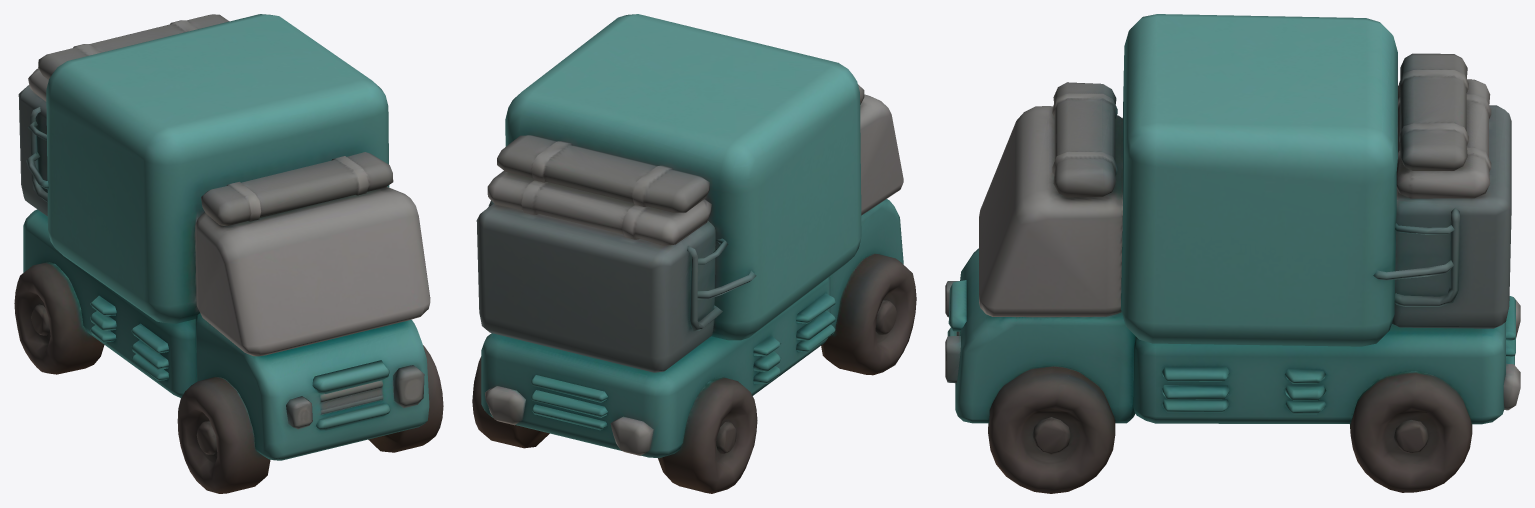
File: icon-truck.glb
3 views of the same model, side by side, from view 1: azimuth 30°, elevation 25°; view 2: azimuth 150°, elevation 25°; view 3: azimuth 270°, elevation 25° (orthographic). The views are drawn at different scales.
Parts seen in each view (by area): view 1: tripo_node_kodyurd-model-68____________________; view 2: tripo_node_kodyurd-model-68____________________; view 3: tripo_node_kodyurd-model-68____________________.
Part boxes in pixels (left/top/right/bottom): tripo_node_kodyurd-model-68____________________: left=14, top=14, right=443, bottom=493; tripo_node_kodyurd-model-68____________________: left=472, top=14, right=916, bottom=493; tripo_node_kodyurd-model-68____________________: left=945, top=14, right=1520, bottom=493.
Size of the model in its own units: 0.5566 by 0.709 by 0.998.
1 material, 1 textured.
